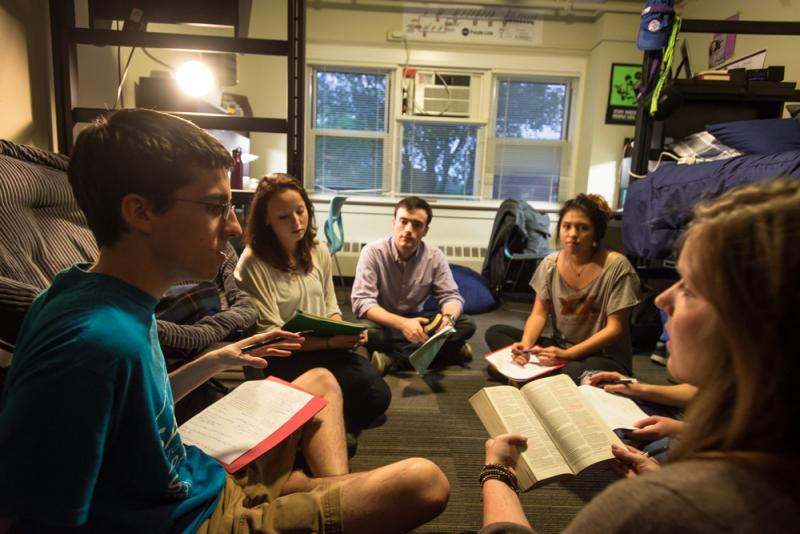Person: (48, 109, 248, 534), (654, 187, 800, 534), (260, 157, 366, 412), (520, 200, 638, 400), (357, 203, 466, 363)
